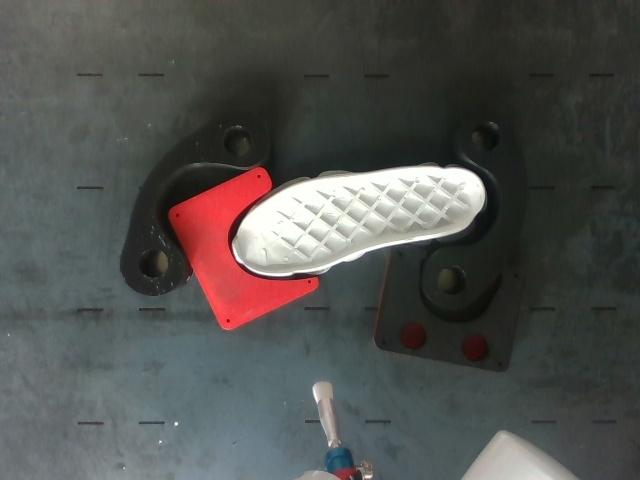shoes: (234, 167, 484, 273)
